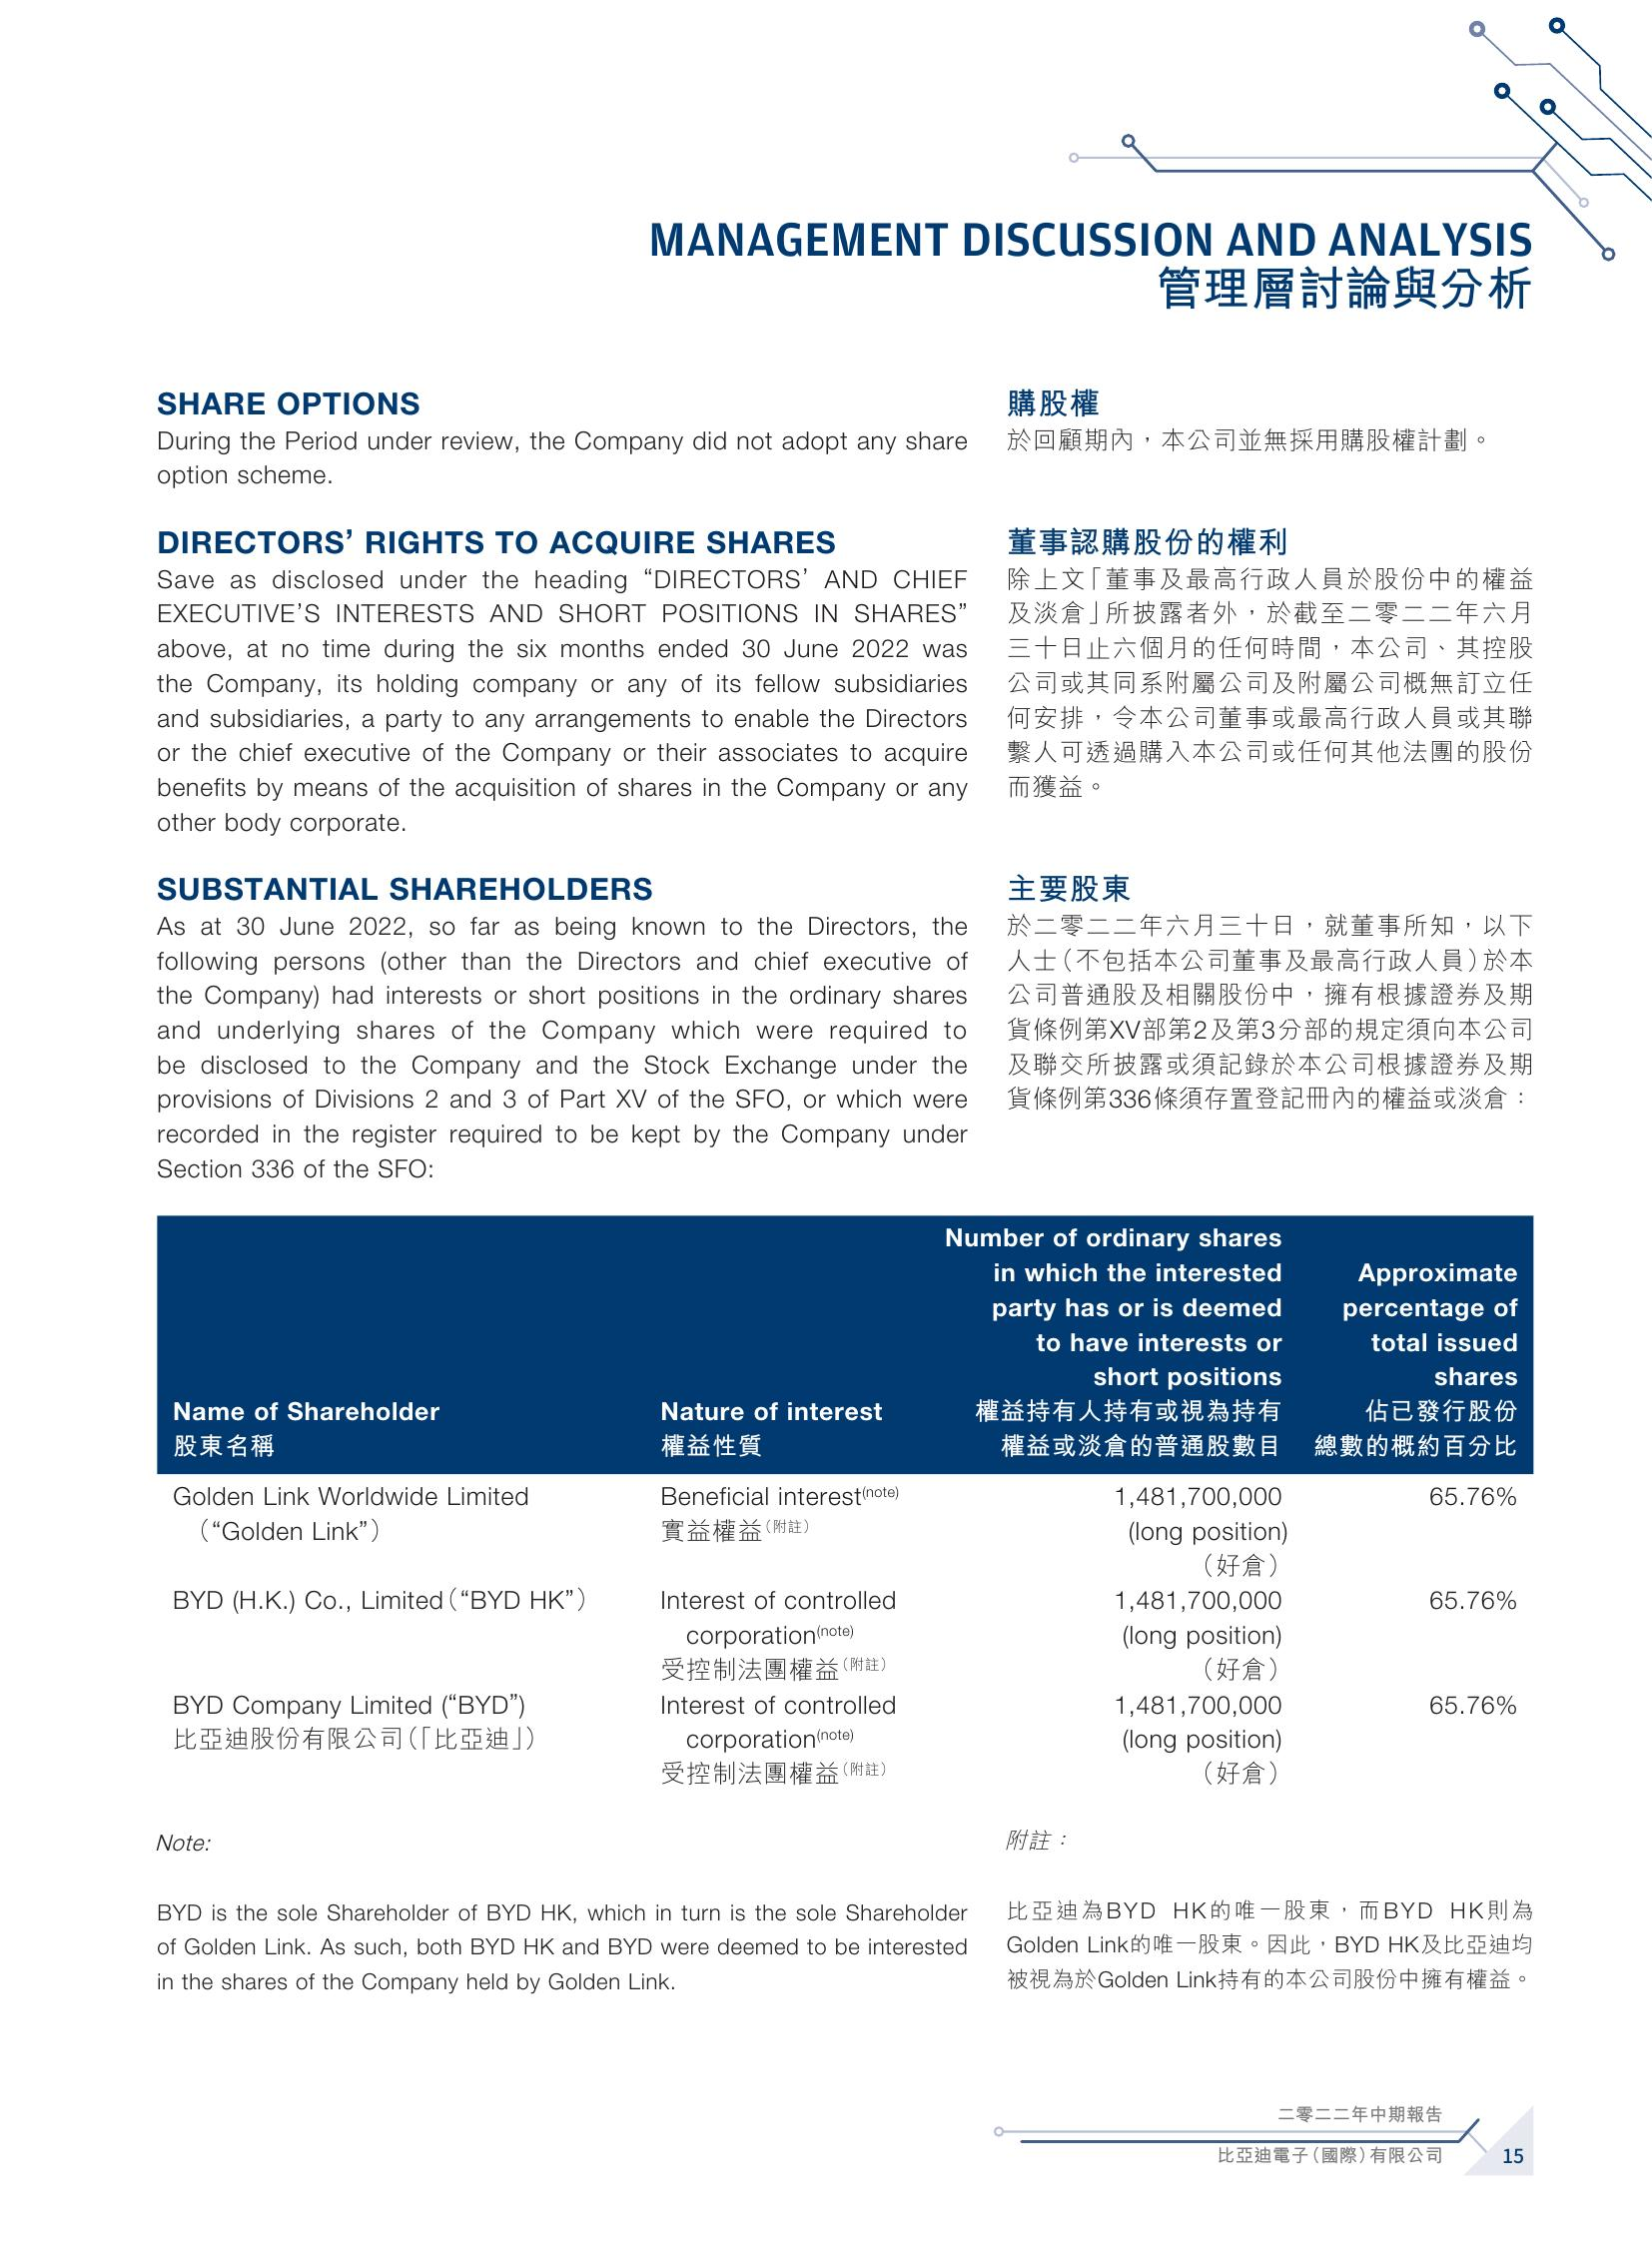Footer: (0, 2077, 1652, 2242)
Header: (0, 0, 1652, 197)
Table: (110, 1215, 1551, 1835)
